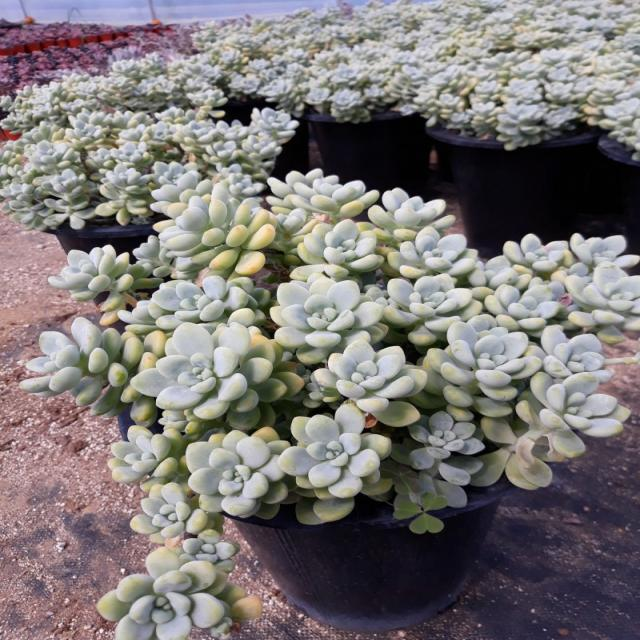LumiRose: (505, 338, 630, 489), (96, 530, 260, 640), (155, 322, 303, 435), (20, 318, 167, 425), (278, 404, 392, 524), (413, 315, 542, 421), (153, 174, 275, 276), (382, 411, 485, 517), (270, 276, 387, 364), (187, 428, 290, 517), (118, 275, 272, 334), (305, 348, 427, 412), (383, 274, 482, 346), (48, 245, 147, 312), (565, 261, 640, 343), (468, 234, 575, 289), (108, 426, 188, 491), (267, 169, 378, 213), (130, 482, 207, 542), (388, 228, 477, 279), (297, 220, 383, 272), (485, 282, 565, 337), (368, 188, 455, 232)
